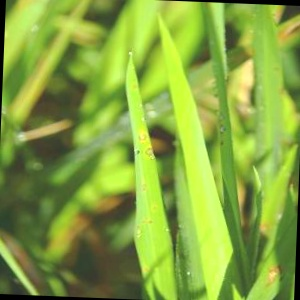Brown_Spot: (140, 142, 166, 168), (127, 120, 153, 146)
